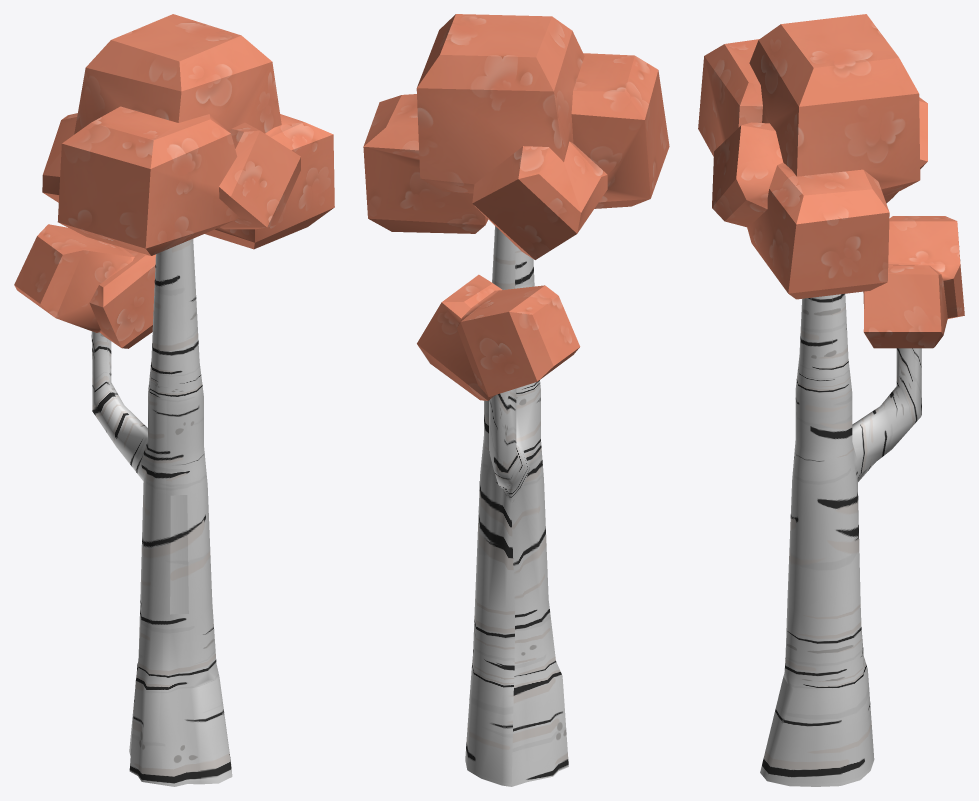
Rendered from Tree 3.FBX.
The picture shows the model from 3 angles, left to right: view 1: azimuth 30°, elevation 25°; view 2: azimuth 150°, elevation 25°; view 3: azimuth 270°, elevation 25°; orthographic projection.
Visible parts, largest first — view 1: Cylinder007; view 2: Cylinder007; view 3: Cylinder007.
Part boxes in pixels (x1,y1,x2,y2): Cylinder007: (14, 14, 334, 786); Cylinder007: (363, 14, 669, 786); Cylinder007: (698, 14, 964, 786).
Bounding box in the file's own units: 21.35 × 54.35 × 17.9.
